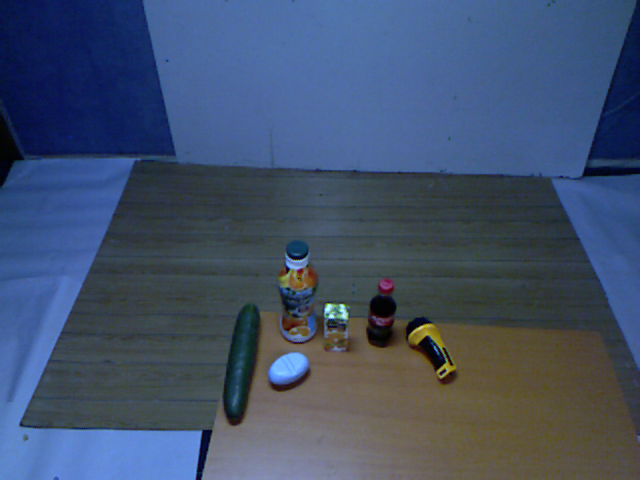coca: (362, 273, 398, 353)
jabon: (263, 347, 314, 394)
jugoind: (317, 299, 357, 356)
linterna: (400, 310, 464, 385)
pepino: (221, 300, 264, 425)
yogurt: (275, 235, 323, 346)
